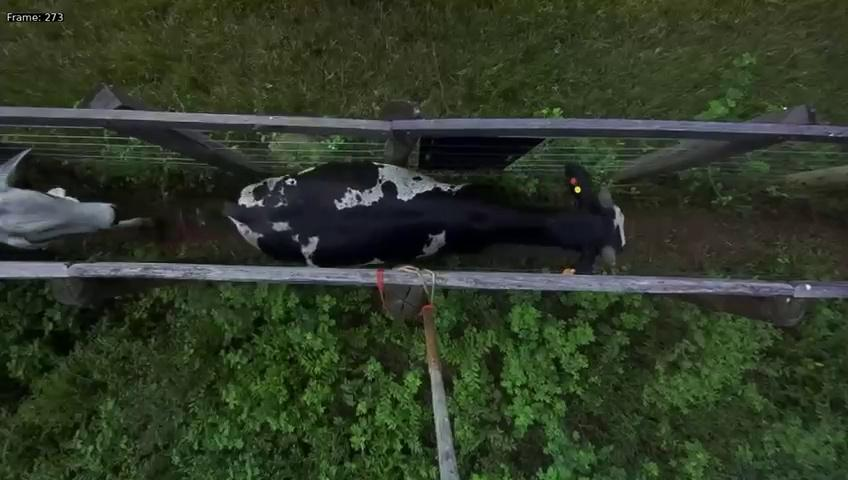cattle: (212, 146, 637, 282)
